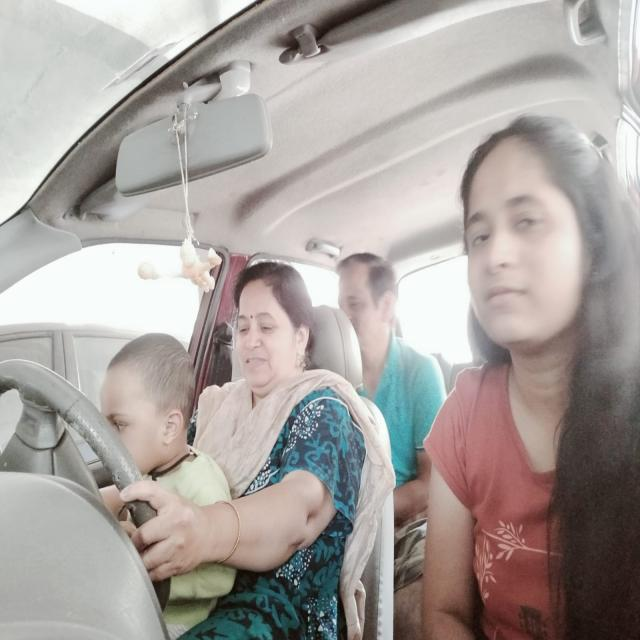child: (85, 316, 214, 482)
person: (452, 104, 640, 424), (214, 250, 327, 415), (340, 221, 407, 380)
